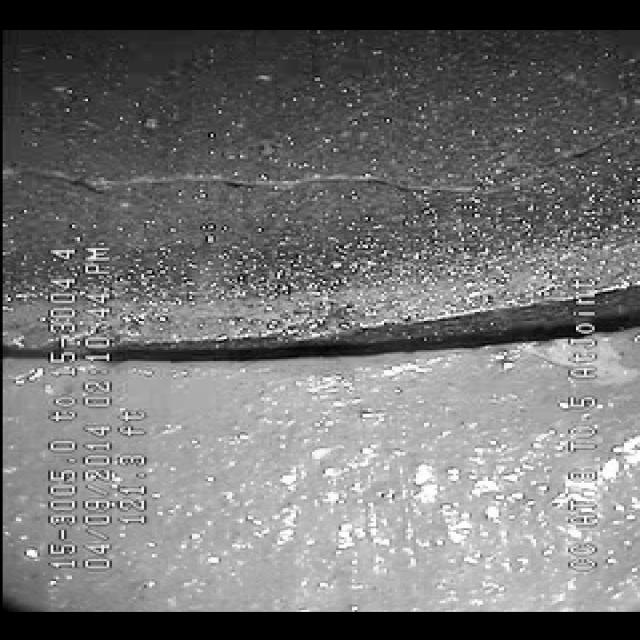Crack: (52, 131, 564, 219)
